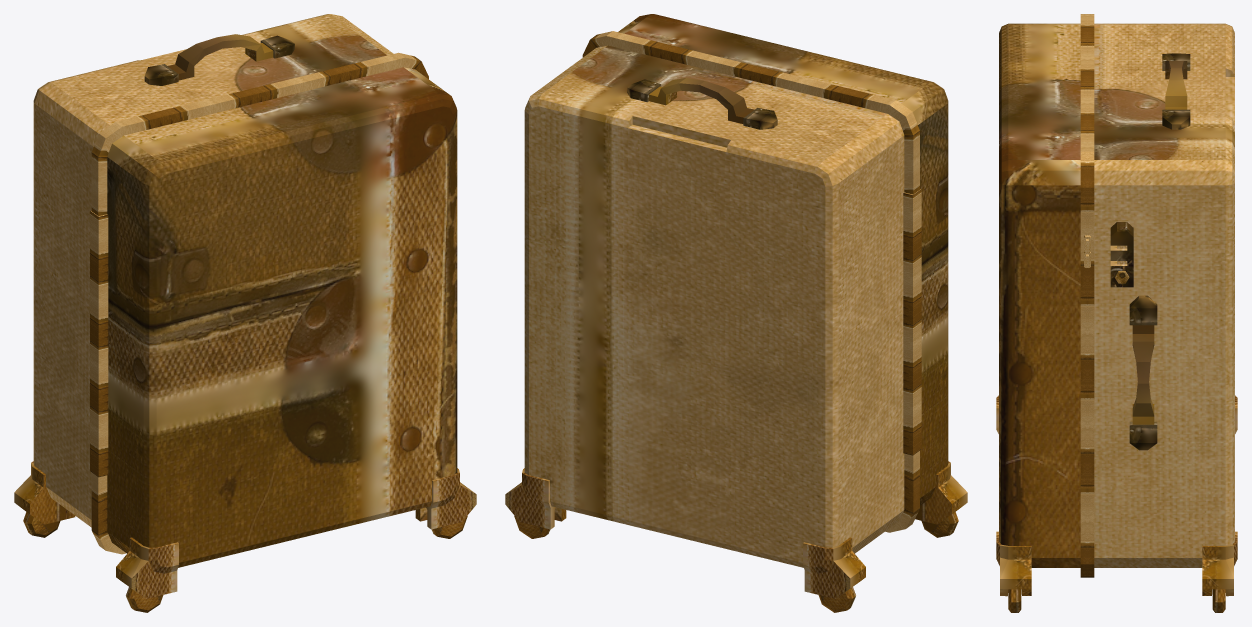
Rendered from suitcase.obj.
The picture shows the model from 3 angles, left to right: view 1: azimuth 30°, elevation 25°; view 2: azimuth 150°, elevation 25°; view 3: azimuth 270°, elevation 25°; orthographic projection.
Bounding box in the file's own units: 0.5025 × 0.6449 × 0.2987.
